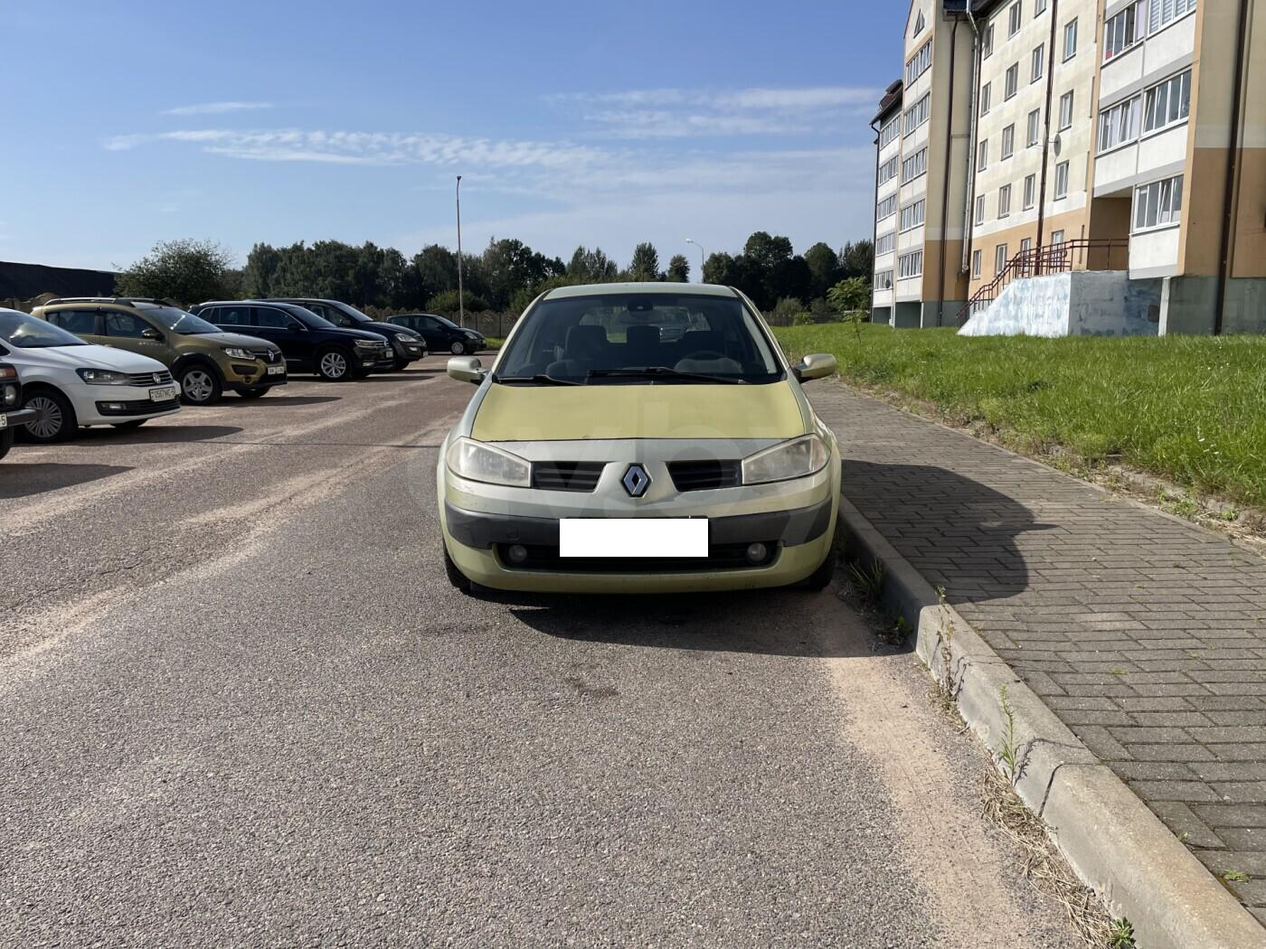Megane_2002-2006: (441, 275, 859, 629)
